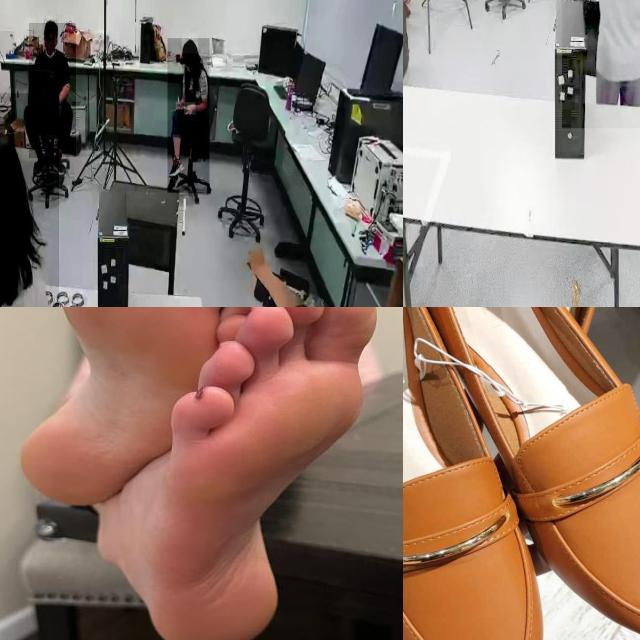Barefoots: (152, 307, 380, 640), (38, 307, 214, 509)
Sandals: (403, 307, 640, 640)
face_nomask: (44, 33, 56, 54)
hand_noglove: (184, 102, 196, 116), (175, 96, 185, 110)
head_nohelmet: (0, 129, 22, 183), (182, 38, 198, 54), (44, 19, 58, 33)
person: (562, 0, 640, 129), (168, 38, 210, 194), (29, 23, 77, 158)
shoes: (168, 149, 185, 181)
